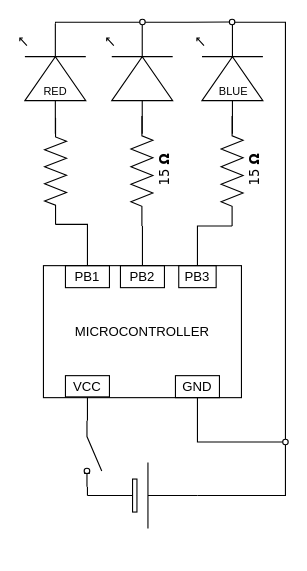
Some shapes in this 307 by 571 pixel diagram are drawn without their labels. Here are the shapes that lost their labels. From the top down, the box of each, then its label:
(106, 23, 173, 134): GREEN
(43, 117, 67, 224): 68 Ω
(86, 461, 197, 529): 3.7 V
